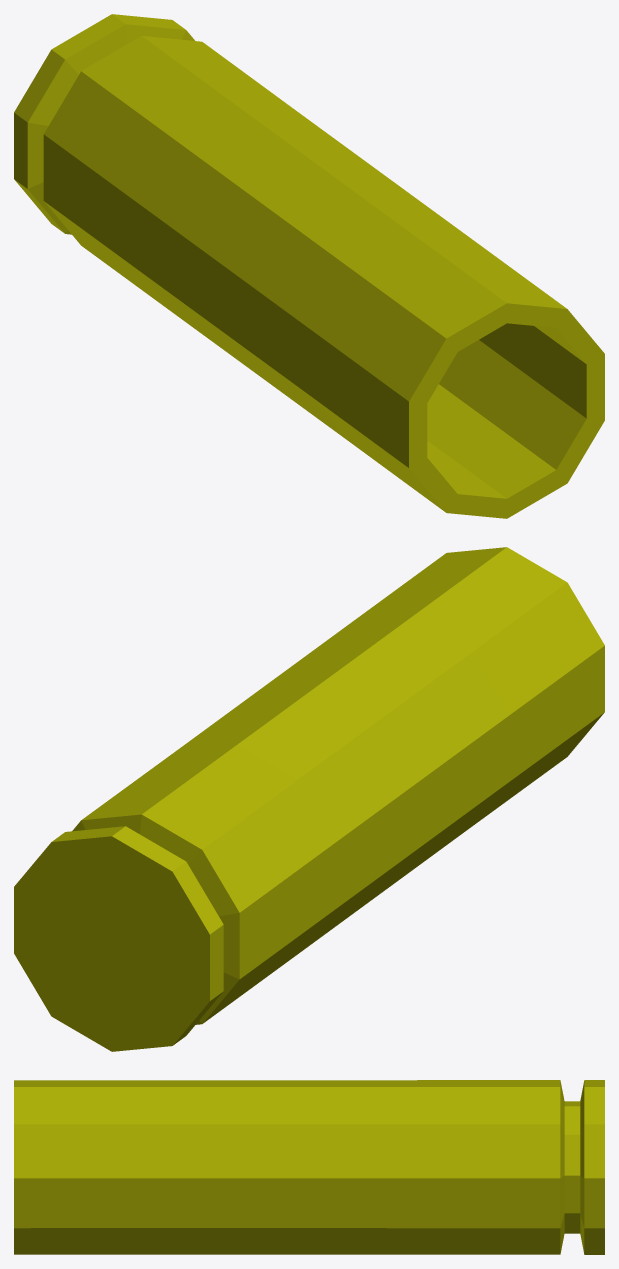
File: LUSKA_LKM.glb
3 views of the same model, one above another, from view 1: azimuth 30°, elevation 25°; view 2: azimuth 150°, elevation 25°; view 3: azimuth 270°, elevation 25° (orthographic). The views are drawn at different scales.
Parts seen in each view (by area): view 1: Cylinder.002; view 2: Cylinder.002; view 3: Cylinder.002.
Part boxes in pixels (x1=…): Cylinder.002: x1=14, y1=14, x2=604, y2=518; Cylinder.002: x1=14, y1=547, x2=604, y2=1051; Cylinder.002: x1=14, y1=1080, x2=604, y2=1254.
Size of the model in its own units: 0.0896 by 0.0942 by 0.3128.
